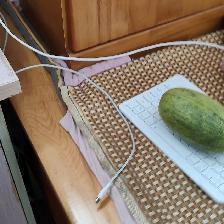gua: (165, 83, 224, 140)
